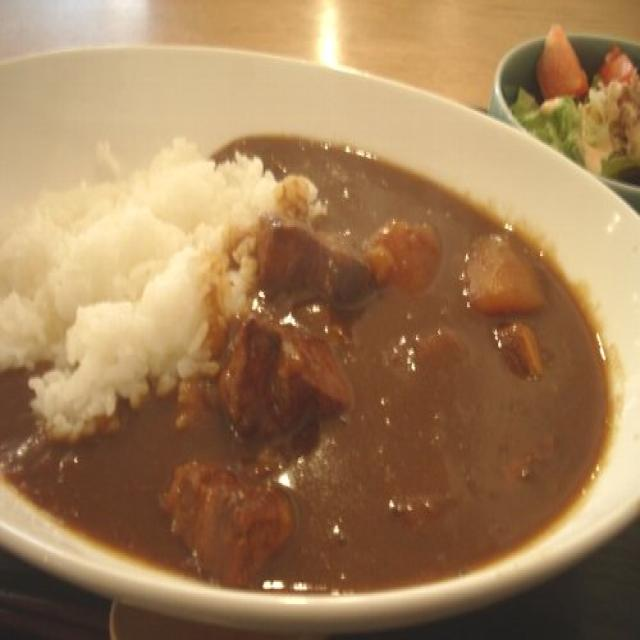牛肉菜式: (0, 43, 640, 609)
